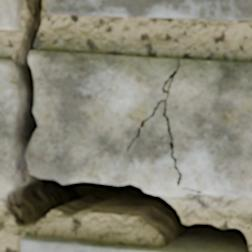brick: (47, 0, 251, 19), (21, 236, 187, 251), (0, 0, 21, 29)
broken_brick: (26, 49, 197, 197), (167, 58, 251, 199), (0, 57, 16, 195)
crack: (2, 0, 250, 251), (125, 58, 203, 194)
